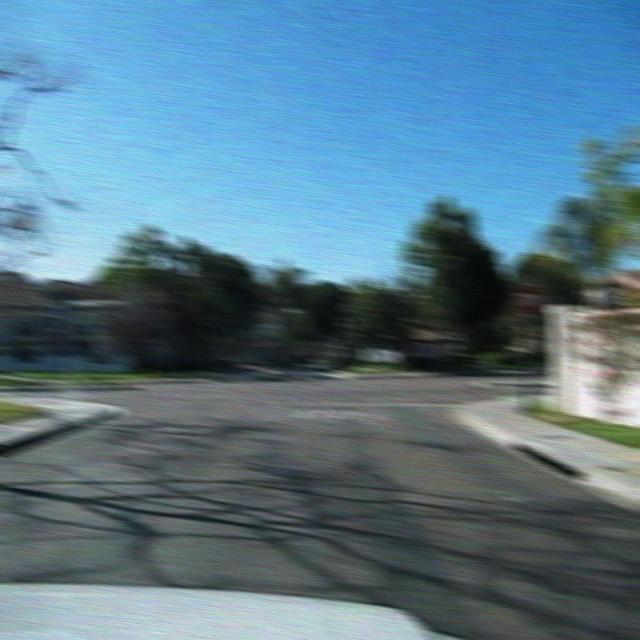stop_sign: (512, 280, 544, 317)
